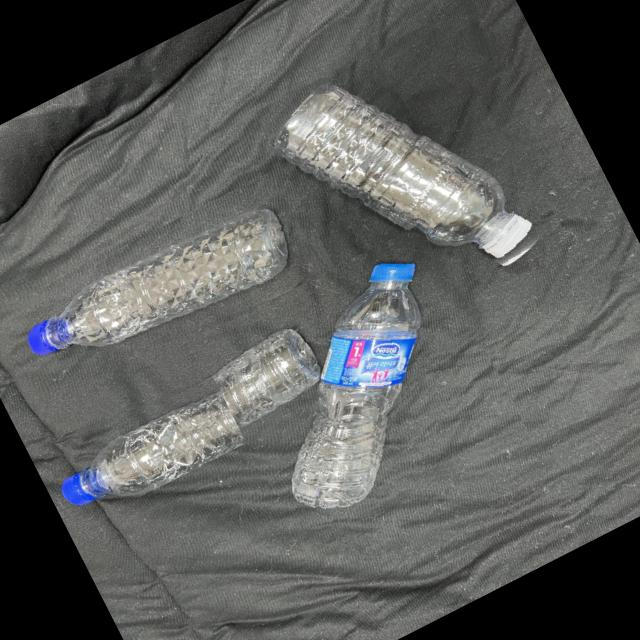plastic bottle: (38, 314, 338, 528), (266, 74, 558, 282), (9, 183, 298, 389), (280, 250, 439, 514)
